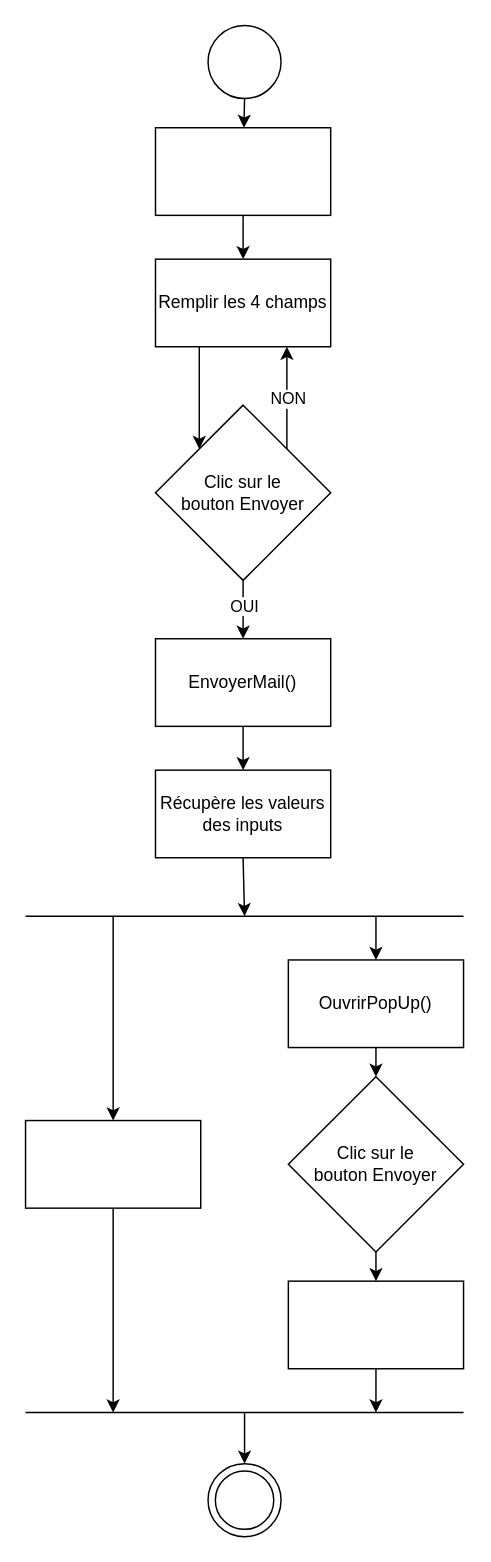
The diagram is 491 pixels wide and 1562 high, and some of its shapes have lost their labels. Each missing label, with the box of its shape:
Aller sur la page contacter: (154, 126, 331, 215)
FermerPopUp(): (287, 1280, 464, 1369)
Redirection vers Outlook: (24, 1119, 201, 1208)
